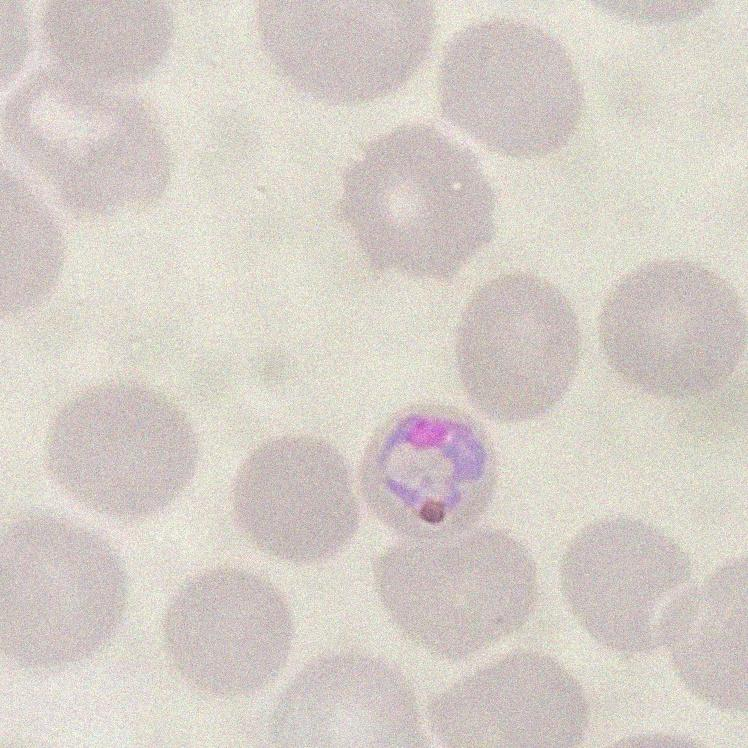Infected: (358, 399, 497, 540)
Uninfected: (338, 121, 495, 276), (0, 69, 167, 211), (0, 501, 131, 674), (598, 255, 743, 391), (46, 383, 194, 512), (442, 17, 582, 150), (256, 0, 431, 106), (566, 511, 695, 653), (378, 539, 530, 658), (232, 427, 361, 566), (456, 275, 571, 428), (434, 647, 589, 748), (166, 567, 290, 689), (654, 555, 748, 715), (274, 651, 421, 748), (38, 0, 174, 89)
